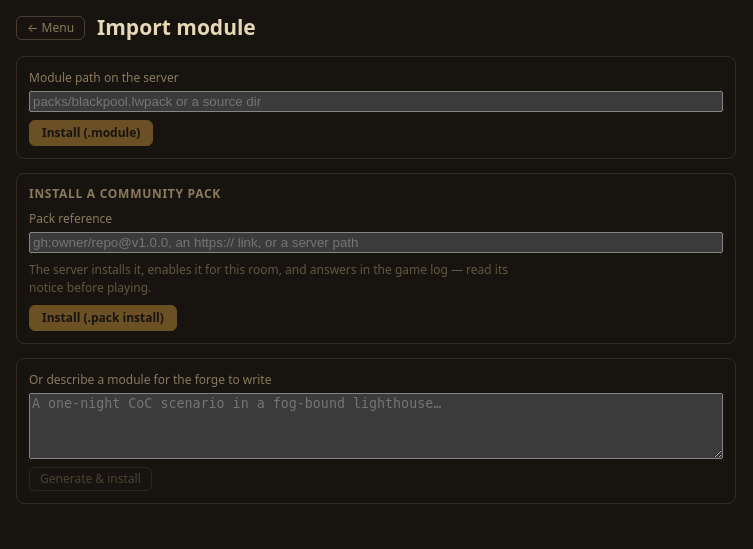
Test: ModuleScreen — community packs › says so when the module path send fails, and keeps the path typed
This screenshot has width=753, height=549.
In the field labelled "Module path on the server": (376, 101) [29,90,723,112], type "packs/blackpool.lwpack"
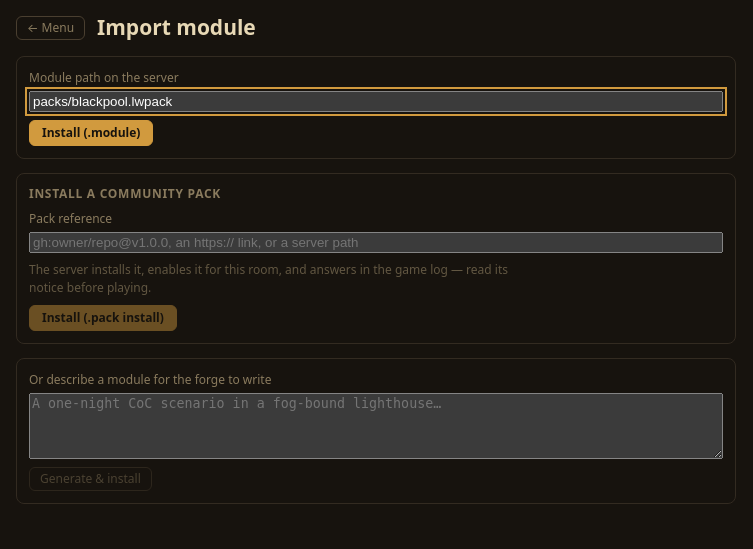
Click the button "Install (.module)": (91, 132) [29,120,153,146]
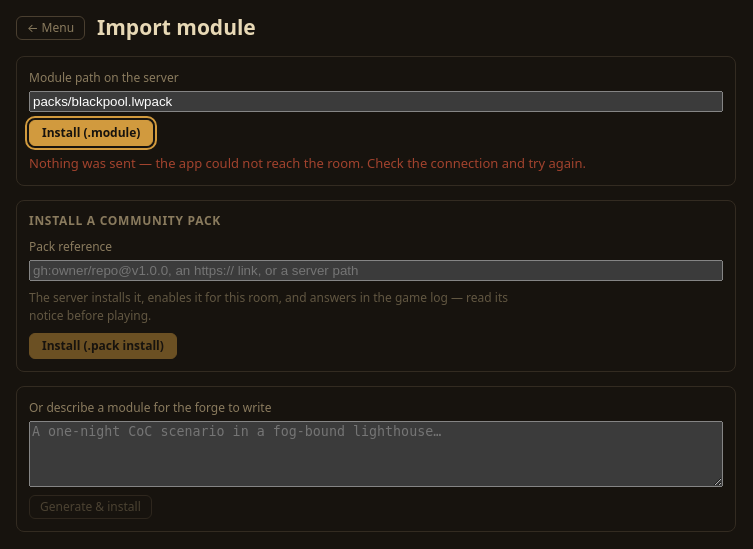
Now the text "Nothing was sent" is shown, box [29,154,586,172]
